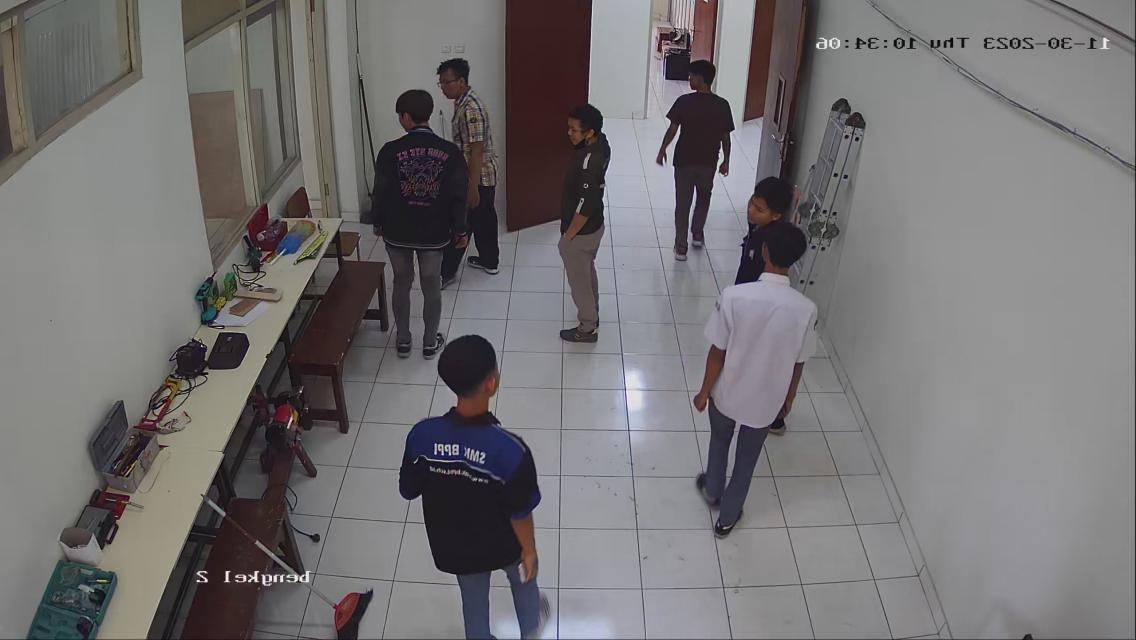Person-Crowd: (694, 215, 809, 531), (430, 316, 541, 640), (366, 85, 448, 366), (554, 84, 623, 363), (662, 51, 736, 260), (441, 55, 498, 277)
